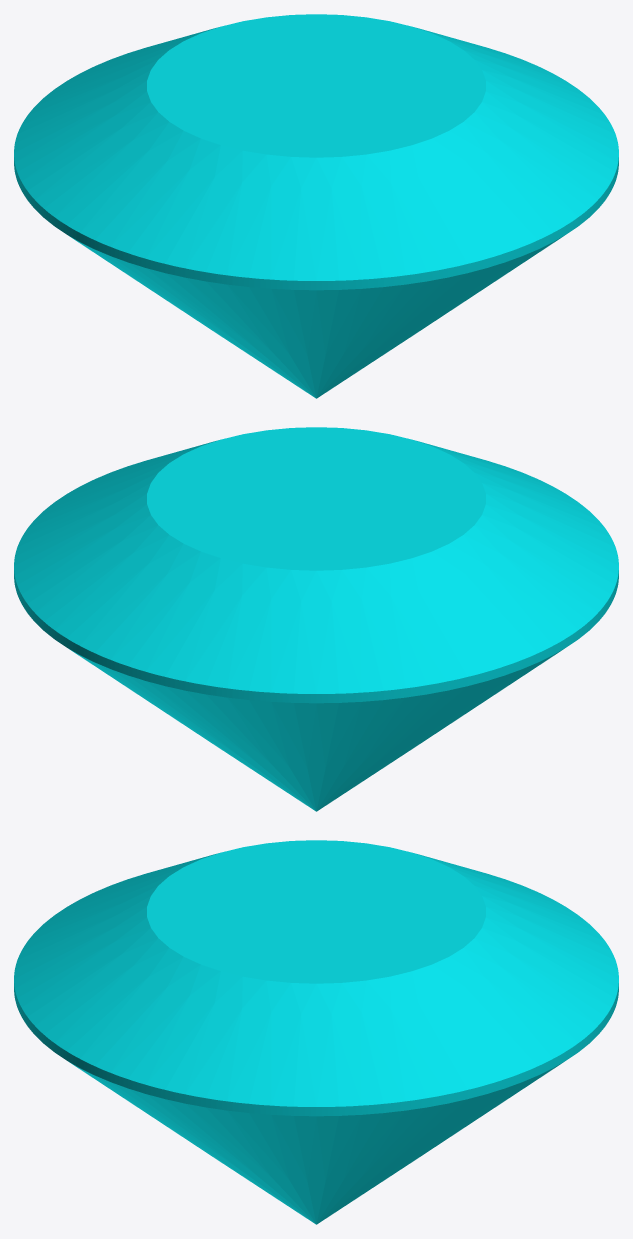
Rendered from gem.glb.
3 renders of one model, top to bottom at view 1: azimuth 30°, elevation 25°; view 2: azimuth 150°, elevation 25°; view 3: azimuth 270°, elevation 25°, orthographic.
Parts seen in each view (by area): view 1: Gem; view 2: Gem; view 3: Gem.
Part boxes in pixels (x1,y1,x2,y2): Gem: [14, 14, 618, 398]; Gem: [14, 427, 618, 811]; Gem: [14, 840, 618, 1224].
Size of the model in its own units: 2 by 1.14 by 2.
